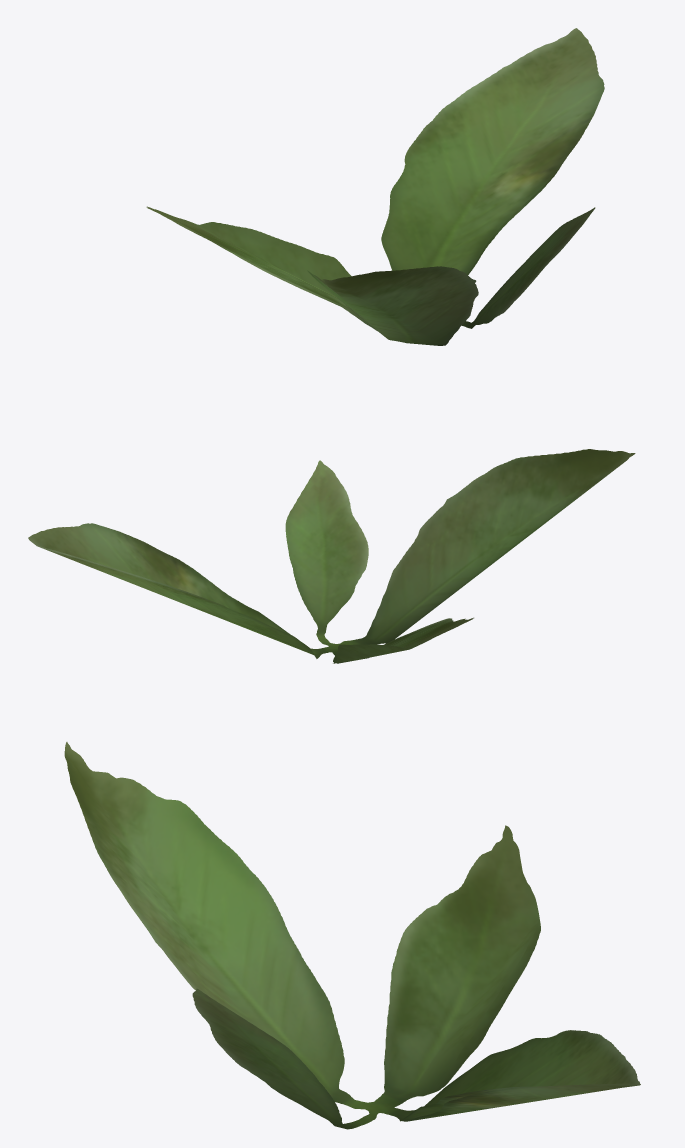
The model's file is BgMD_Tanihira_PlantY_03_01.fbx.
3 views of the same model, one above another, from view 1: azimuth 30°, elevation 25°; view 2: azimuth 150°, elevation 25°; view 3: azimuth 270°, elevation 25° (orthographic). The views are drawn at different scales.
Parts seen in each view (by area): view 1: pPlane6; view 2: pPlane6; view 3: pPlane6.
Boxes of the visible parts, x1,y1,x2,y2 form: pPlane6: (146,28,604,345); pPlane6: (28,449,635,663); pPlane6: (64,742,640,1129).
Bounding box in the file's own units: 19.66 × 7.55 × 16.95.
